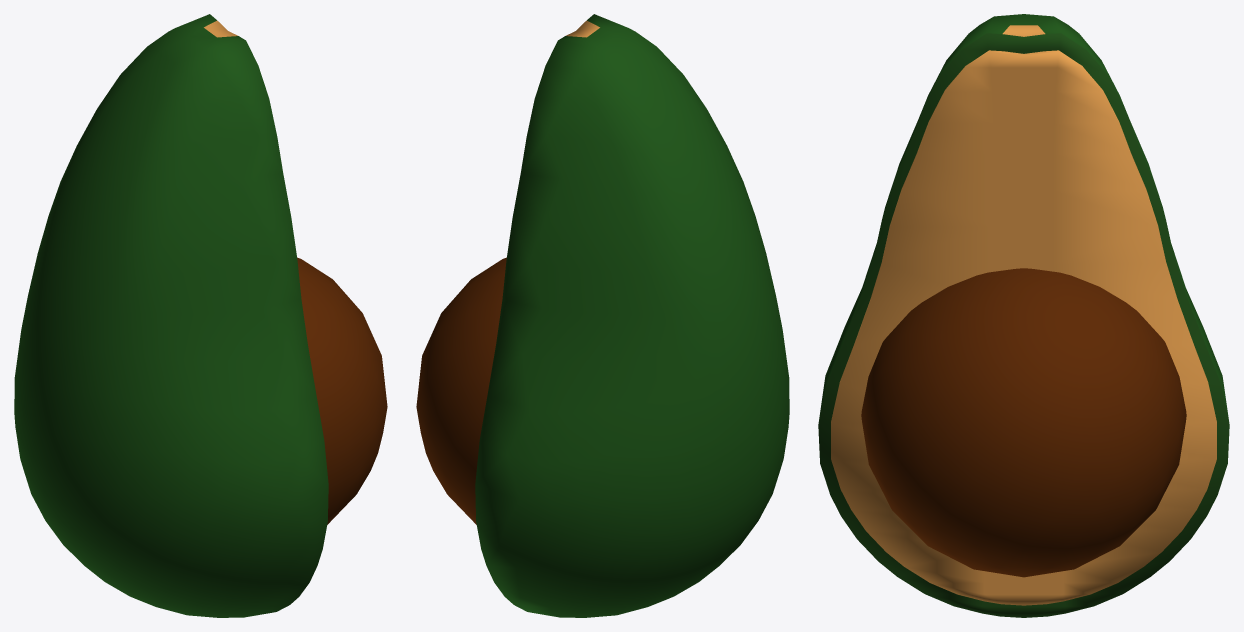
File: avo_2_cut.fbx
3 views of the same model, side by side, from view 1: azimuth 30°, elevation 25°; view 2: azimuth 150°, elevation 25°; view 3: azimuth 270°, elevation 25° (orthographic). The views are drawn at different scales.
Parts seen in each view (by area): view 1: Icosphere.001; view 2: Icosphere.001; view 3: Icosphere.001.
Boxes of the visible parts, x1,y1,x2,y2 form: Icosphere.001: (14, 14, 387, 617); Icosphere.001: (416, 14, 789, 617); Icosphere.001: (818, 14, 1229, 617).
Bounding box in the file's own units: 172 × 287 × 183.
